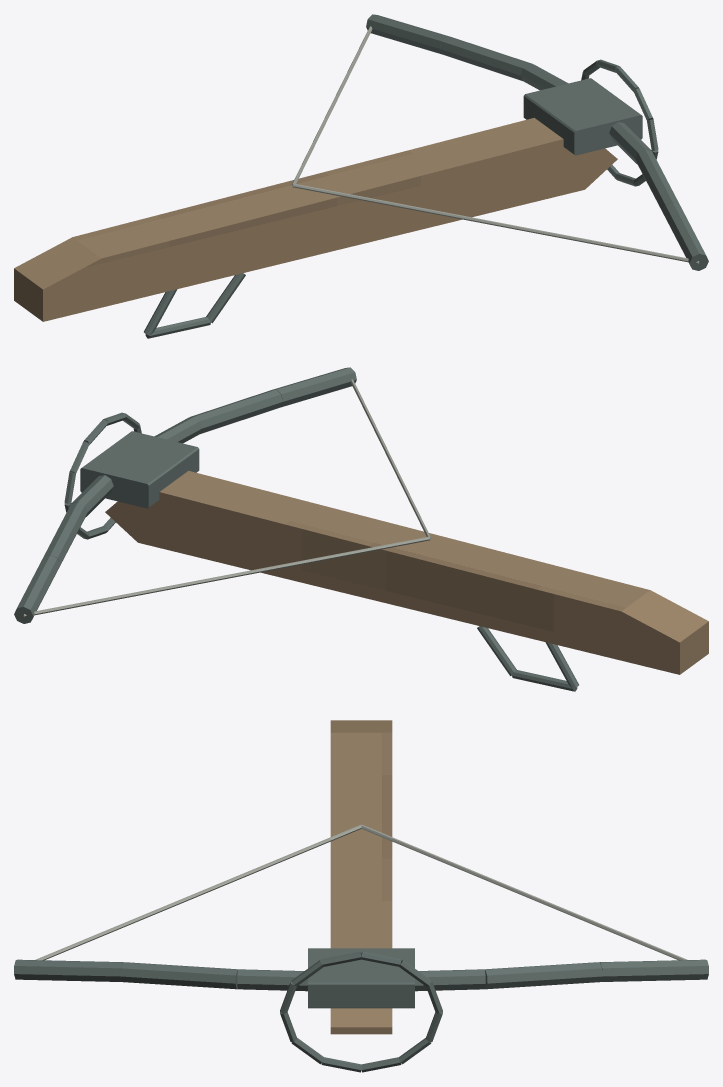
The model's file is weapon-crossbow.glb.
The picture shows the model from 3 angles, top to bottom: view 1: azimuth 30°, elevation 25°; view 2: azimuth 150°, elevation 25°; view 3: azimuth 270°, elevation 25°; orthographic projection. The views are drawn at different scales.
Parts seen in each view (by area): view 1: weapon-crossbow/sculpted-crossbow-tiller, weapon-crossbow/central-limb-saddle, weapon-crossbow/triangular-crossbow-string-1, weapon-crossbow/steel-crossbow-limbs-5, weapon-crossbow/steel-crossbow-limbs-6, weapon-crossbow/steel-crossbow-limbs-1, weapon-crossbow/steel-crossbow-limbs-2, weapon-crossbow/steel-crossbow-limbs-3, weapon-crossbow/steel-crossbow-limbs-4, weapon-crossbow/triangular-crossbow-string-2, weapon-crossbow/underside-release-shaped-prop-2, weapon-crossbow/underside-release-shaped-prop-3; view 2: weapon-crossbow/sculpted-crossbow-tiller, weapon-crossbow/central-limb-saddle, weapon-crossbow/triangular-crossbow-string-2, weapon-crossbow/steel-crossbow-limbs-2, weapon-crossbow/steel-crossbow-limbs-1, weapon-crossbow/steel-crossbow-limbs-6, weapon-crossbow/steel-crossbow-limbs-5, weapon-crossbow/steel-crossbow-limbs-4, weapon-crossbow/steel-crossbow-limbs-3, weapon-crossbow/triangular-crossbow-string-1, weapon-crossbow/underside-release-shaped-prop-2, weapon-crossbow/underside-release-shaped-prop-3; view 3: weapon-crossbow/sculpted-crossbow-tiller, weapon-crossbow/central-limb-saddle, weapon-crossbow/steel-crossbow-limbs-2, weapon-crossbow/steel-crossbow-limbs-5, weapon-crossbow/steel-crossbow-limbs-1, weapon-crossbow/steel-crossbow-limbs-6, weapon-crossbow/triangular-crossbow-string-1, weapon-crossbow/triangular-crossbow-string-2, weapon-crossbow/steel-crossbow-limbs-3, weapon-crossbow/steel-crossbow-limbs-4.
Part boxes in pixels (left/top/right/bottom): weapon-crossbow/sculpted-crossbow-tiller: left=14, top=117, right=617, bottom=321; weapon-crossbow/central-limb-saddle: left=523, top=78, right=642, bottom=155; weapon-crossbow/triangular-crossbow-string-1: left=293, top=184, right=699, bottom=264; weapon-crossbow/steel-crossbow-limbs-5: left=440, top=36, right=532, bottom=80; weapon-crossbow/steel-crossbow-limbs-6: left=366, top=14, right=450, bottom=54; weapon-crossbow/steel-crossbow-limbs-1: left=662, top=202, right=708, bottom=270; weapon-crossbow/steel-crossbow-limbs-2: left=635, top=149, right=678, bottom=214; weapon-crossbow/steel-crossbow-limbs-3: left=609, top=122, right=651, bottom=164; weapon-crossbow/steel-crossbow-limbs-4: left=520, top=63, right=568, bottom=90; weapon-crossbow/triangular-crossbow-string-2: left=291, top=26, right=372, bottom=186; weapon-crossbow/underside-release-shaped-prop-2: left=145, top=317, right=210, bottom=338; weapon-crossbow/underside-release-shaped-prop-3: left=206, top=273, right=245, bottom=323; weapon-crossbow/sculpted-crossbow-tiller: left=105, top=470, right=708, bottom=674; weapon-crossbow/central-limb-saddle: left=80, top=431, right=199, bottom=508; weapon-crossbow/triangular-crossbow-string-2: left=23, top=537, right=429, bottom=617; weapon-crossbow/steel-crossbow-limbs-2: left=190, top=389, right=282, bottom=433; weapon-crossbow/steel-crossbow-limbs-1: left=272, top=367, right=356, bottom=407; weapon-crossbow/steel-crossbow-limbs-6: left=14, top=555, right=60, bottom=623; weapon-crossbow/steel-crossbow-limbs-5: left=44, top=502, right=87, bottom=567; weapon-crossbow/steel-crossbow-limbs-4: left=71, top=475, right=113, bottom=517; weapon-crossbow/steel-crossbow-limbs-3: left=154, top=416, right=202, bottom=443; weapon-crossbow/triangular-crossbow-string-1: left=350, top=379, right=431, bottom=539; weapon-crossbow/underside-release-shaped-prop-2: left=512, top=670, right=577, bottom=691; weapon-crossbow/underside-release-shaped-prop-3: left=477, top=626, right=516, bottom=676; weapon-crossbow/sculpted-crossbow-tiller: left=330, top=720, right=392, bottom=1034; weapon-crossbow/central-limb-saddle: left=308, top=948, right=414, bottom=1008; weapon-crossbow/steel-crossbow-limbs-2: left=120, top=962, right=238, bottom=989; weapon-crossbow/steel-crossbow-limbs-5: left=484, top=962, right=602, bottom=989; weapon-crossbow/steel-crossbow-limbs-1: left=14, top=959, right=123, bottom=981; weapon-crossbow/steel-crossbow-limbs-6: left=599, top=959, right=708, bottom=981; weapon-crossbow/triangular-crossbow-string-1: left=35, top=824, right=361, bottom=960; weapon-crossbow/triangular-crossbow-string-2: left=361, top=824, right=687, bottom=960; weapon-crossbow/steel-crossbow-limbs-3: left=237, top=969, right=307, bottom=991; weapon-crossbow/steel-crossbow-limbs-4: left=415, top=969, right=485, bottom=991.
Size of the model in its own units: 0.882 by 0.2252 by 0.8468.
3 materials, 3 textured.
